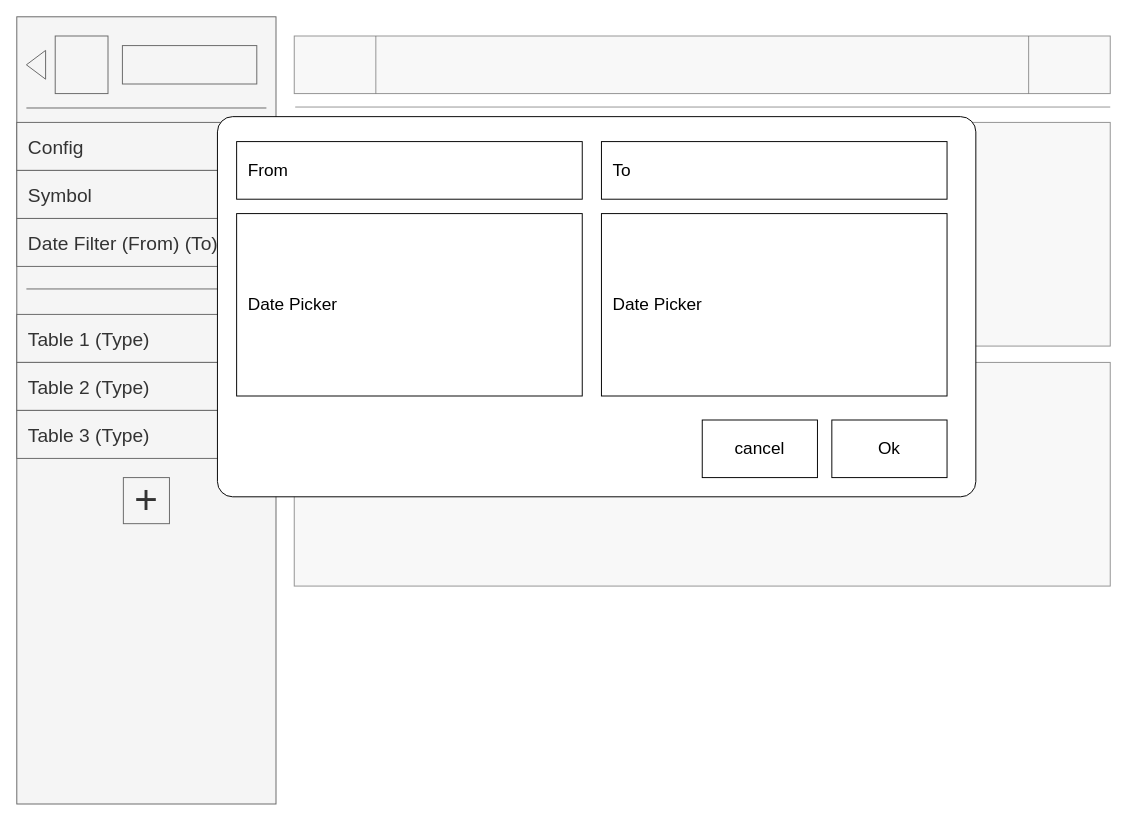
This 1128x821 diagram has some shape labels left out. The shapes that lost their labels are listed below. From the top down, each one's centre as x and y in pixels, then its label:
At [81,64]: "Logo".
At [189,64]: "Title".
At [701,64]: "Date Slider".
